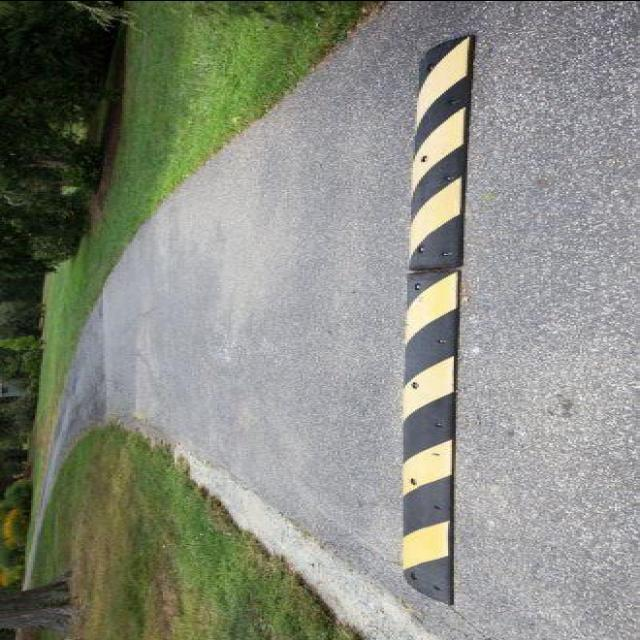speedbreaker: (378, 25, 504, 616)
